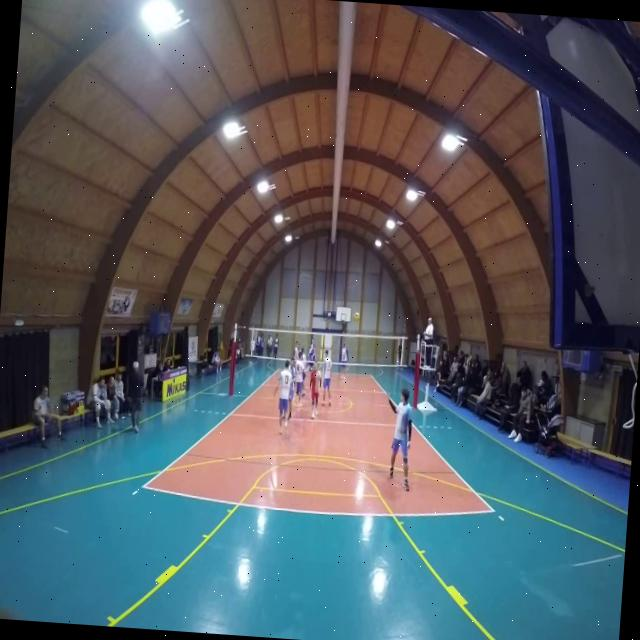Volleyball: (353, 310, 361, 322)
